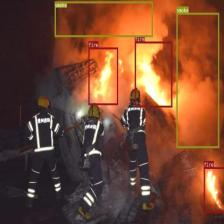fire: (134, 41, 172, 107), (88, 47, 118, 105), (203, 166, 224, 212)
smoke: (176, 12, 219, 148), (54, 1, 153, 37)
